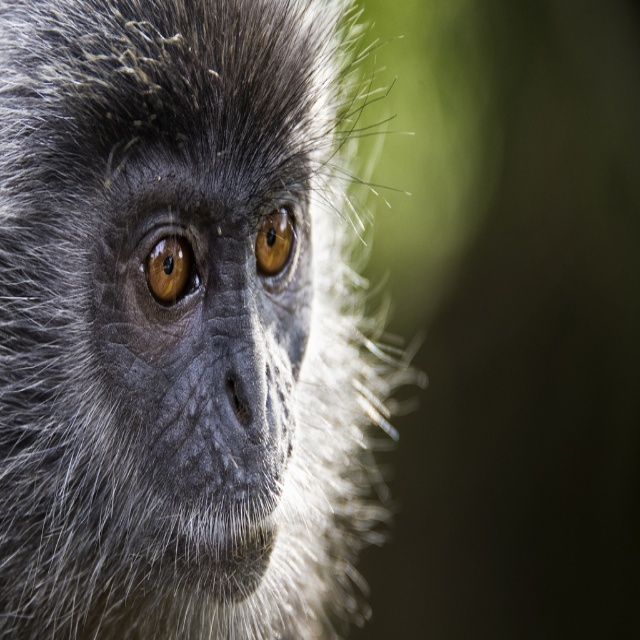Monkey: (0, 30, 433, 639)
